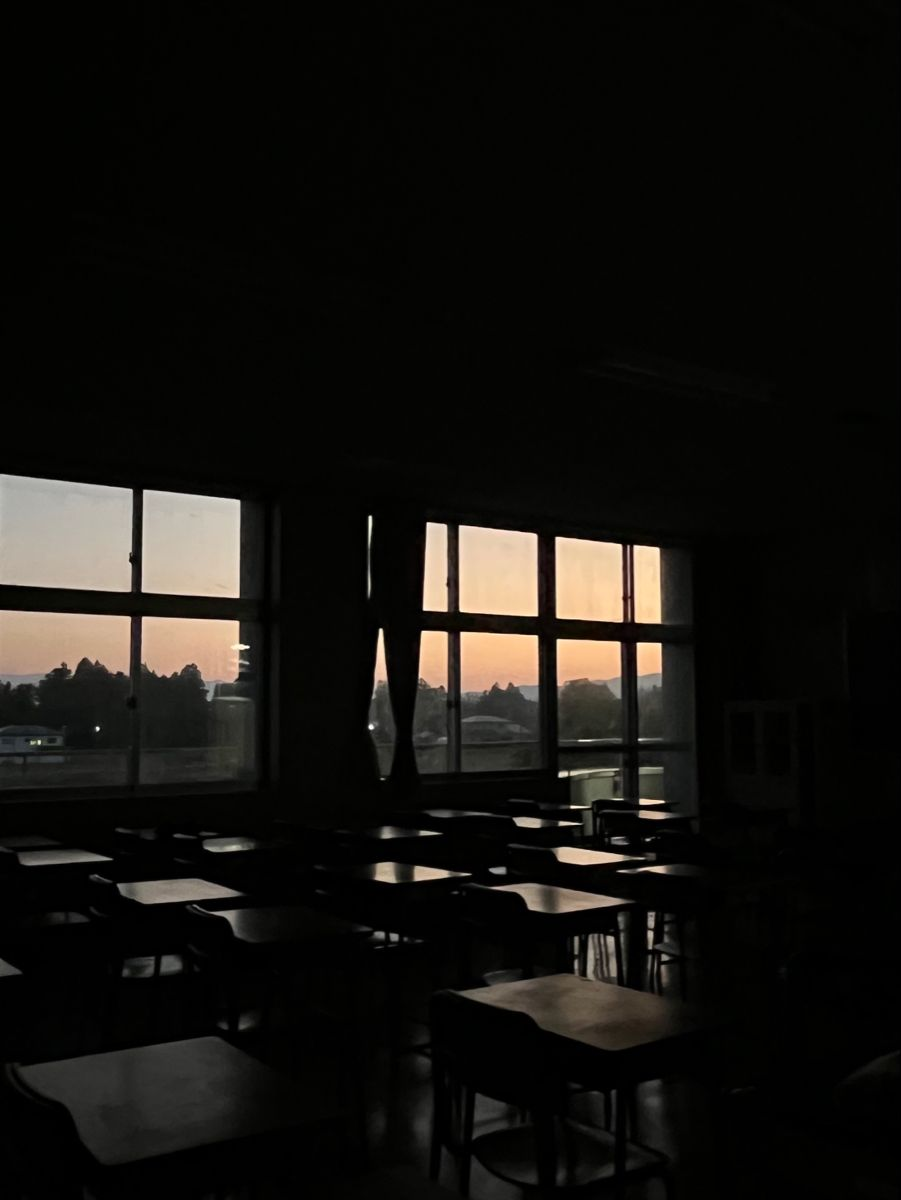not a gesture sign: (0, 433, 839, 889)
